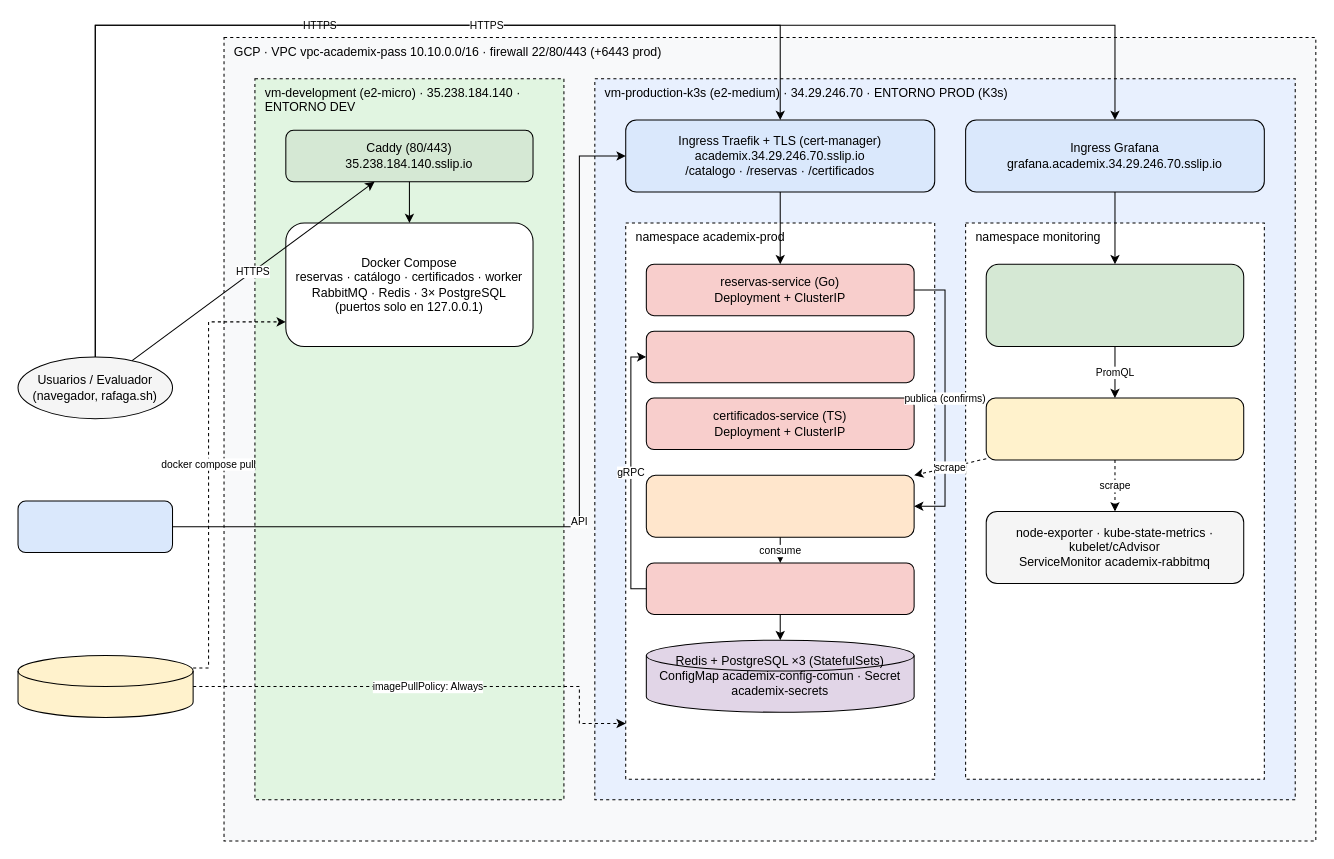
This 1334x859 diagram has some shape labels left out. The shapes that lost their labels are listed below. From the top down, each one's centre as x and y in pixels, then its label:
the point at 1114,305: Grafana 2 tableros: Infraestructura · Negocio y Colas acceso anónimo (Viewer)
the point at 779,356: catalogo-service (TS) Deployment + ClusterIP
the point at 1114,428: Prometheus (kube-prometheus-stack)
the point at 779,505: RabbitMQ (StatefulSet) cola academix.reservas.solicitudes :15692 /metrics
the point at 95,526: Frontend Next.js Vercel
the point at 779,588: reservation-worker (Python) Deployment (consumidor)
the point at 105,686: GHCR ghcr.io/thanya-gate/academix/*:3.0.0
